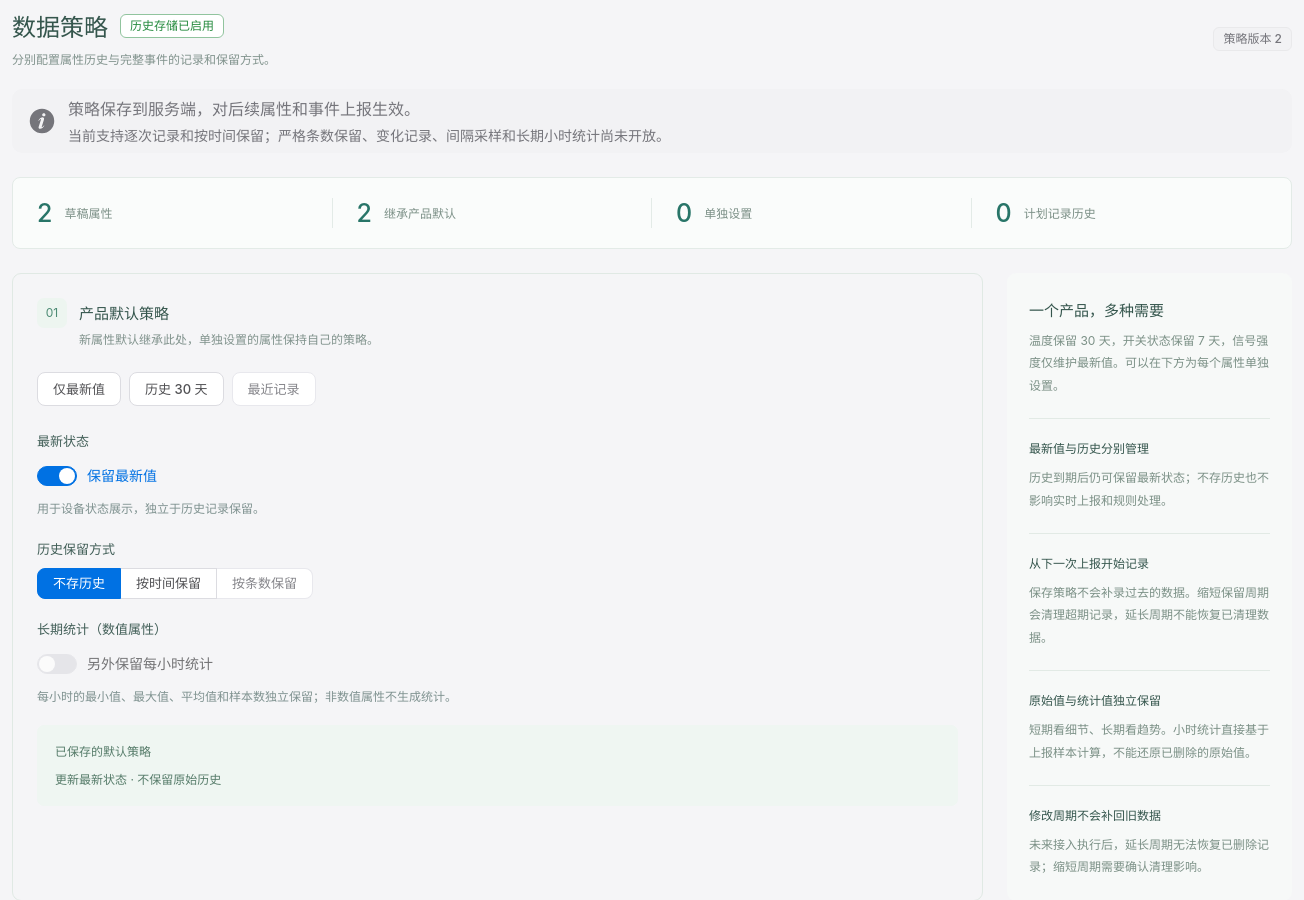
Scenario: loads and saves server policy with independent revision, ignoring old browser previews
The width and height of the screenshot is (1304, 900).
Click the button "历史 30 天" at point(176, 389), box [129,372,224,406]
(page scrolled)
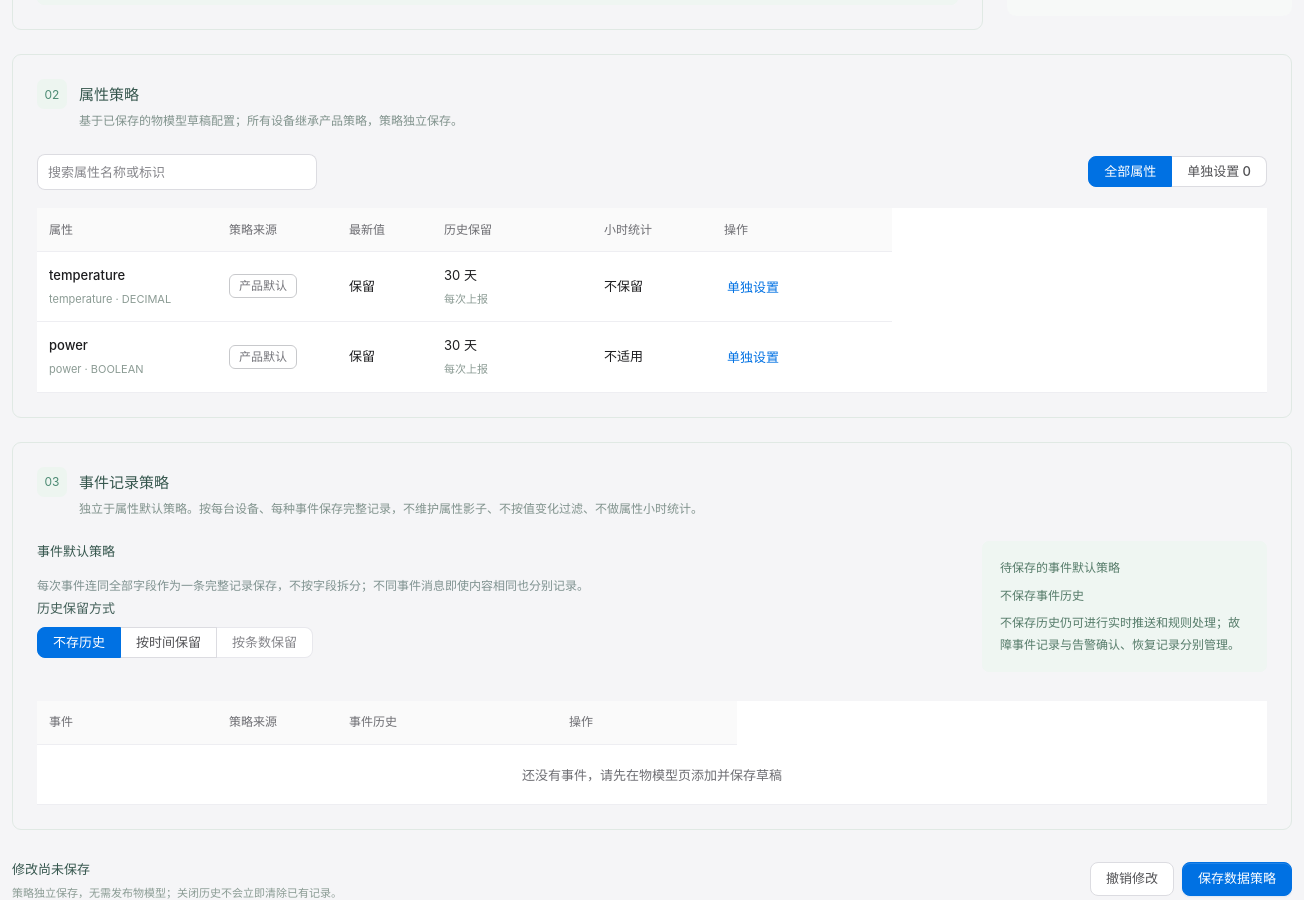
Click the button "保存数据策略" at point(1237, 878), box [1182,862,1292,896]
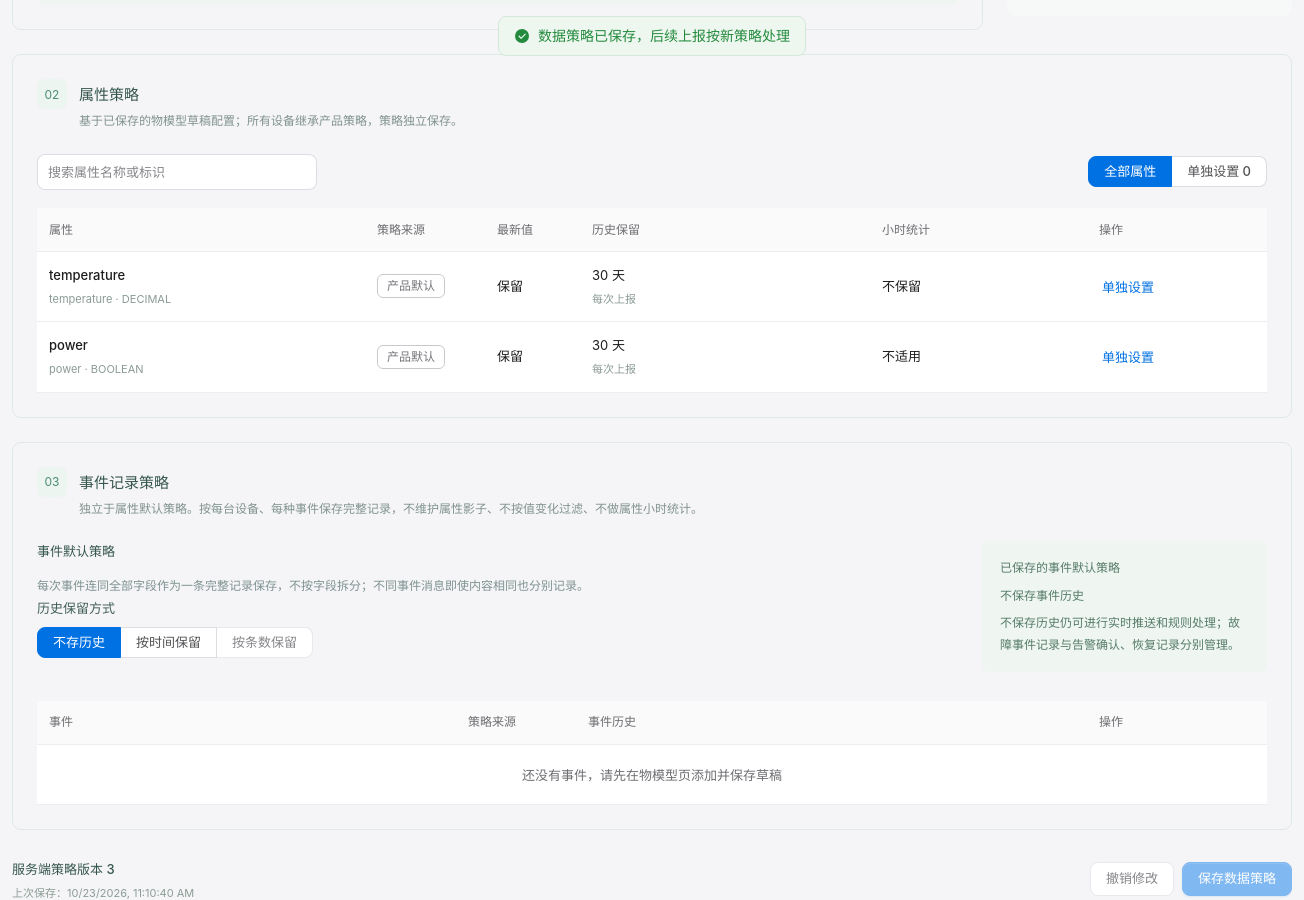
Now the text "策略版本 3" is shown, box [12,860,115,876]
